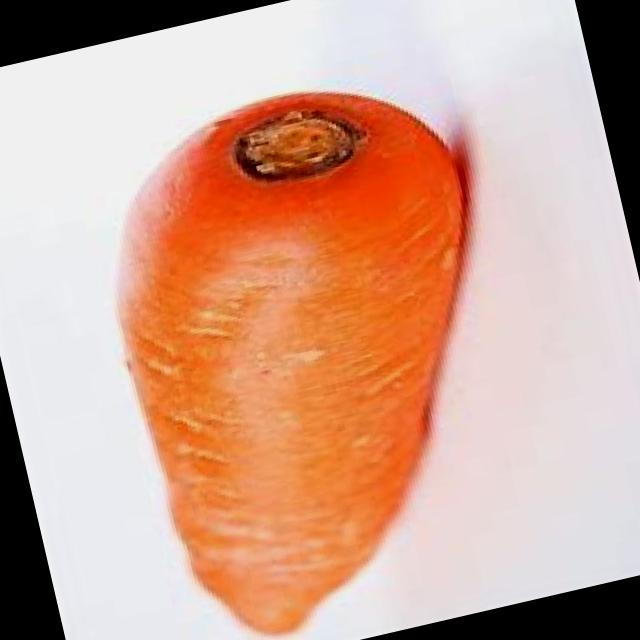carrot: (115, 86, 468, 637)
